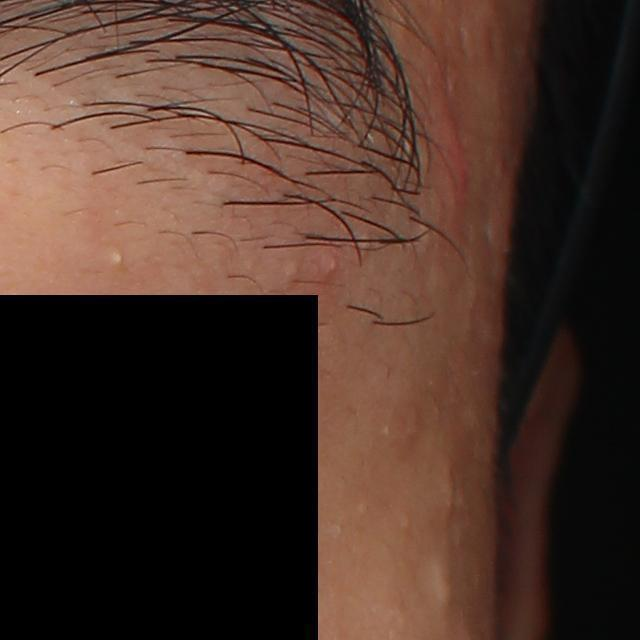other: (108, 248, 124, 270)
